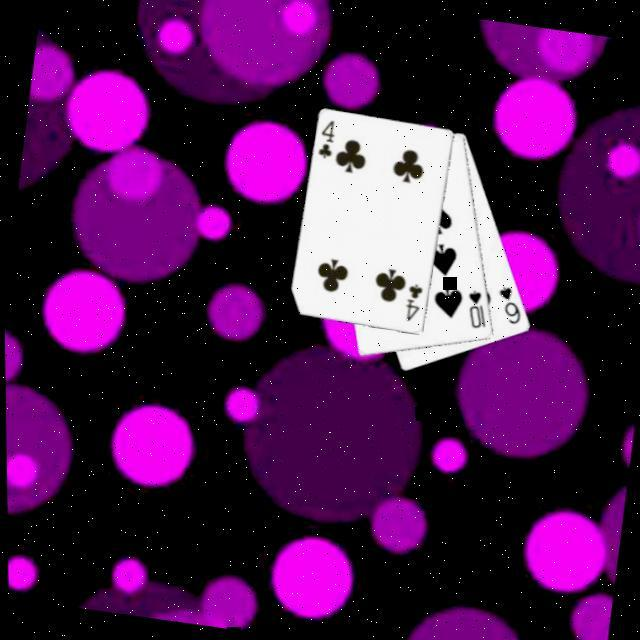10S: (461, 289, 494, 335)
4C: (314, 118, 341, 165), (401, 282, 428, 328)
6S: (492, 285, 529, 331)
